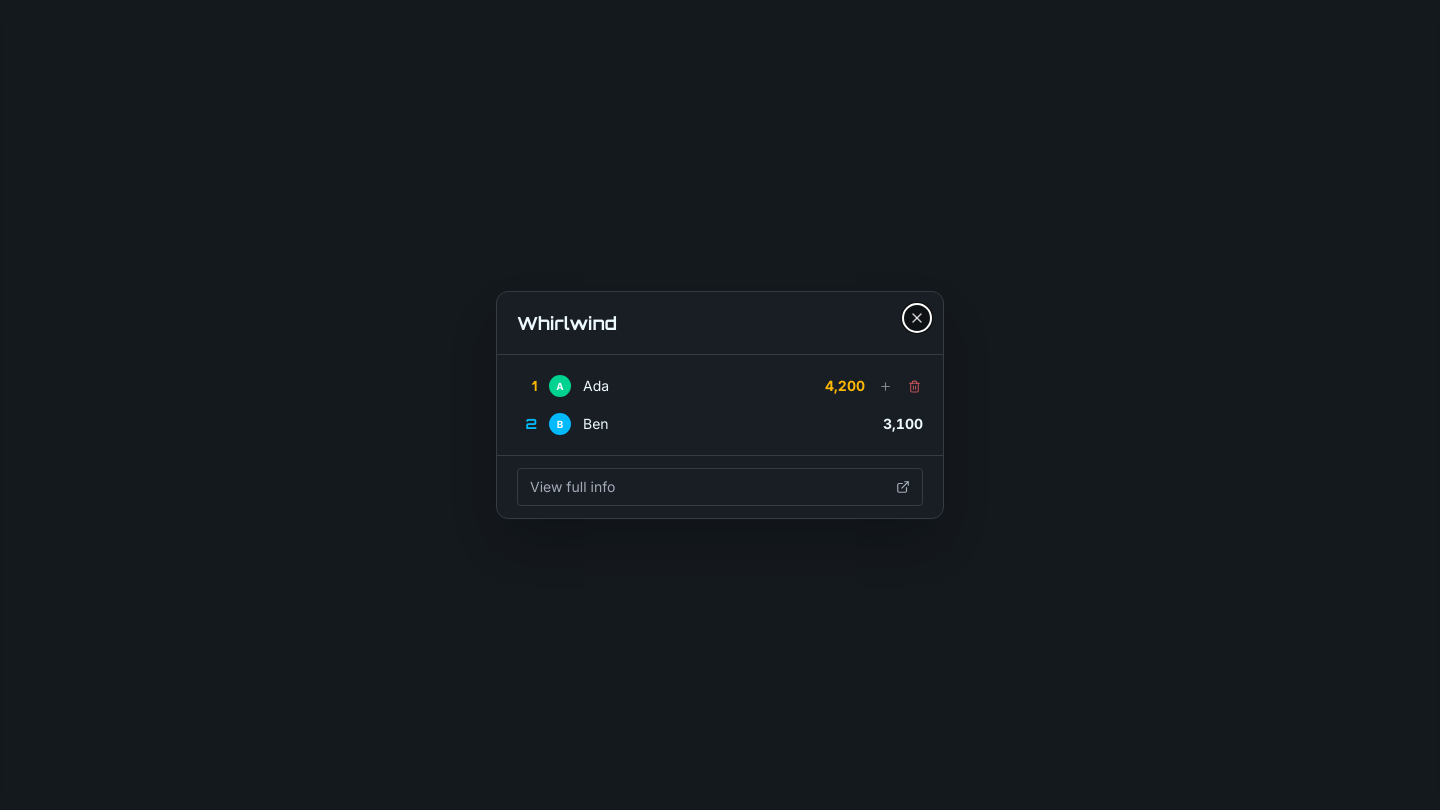
Test: GameQuickView — nested per-player history › expands a multi-score row and gives each history row its own delete
This screenshot has width=1440, height=810.
Click the button named "Show score history": {"x": 886, "y": 386} [875,376,896,397]
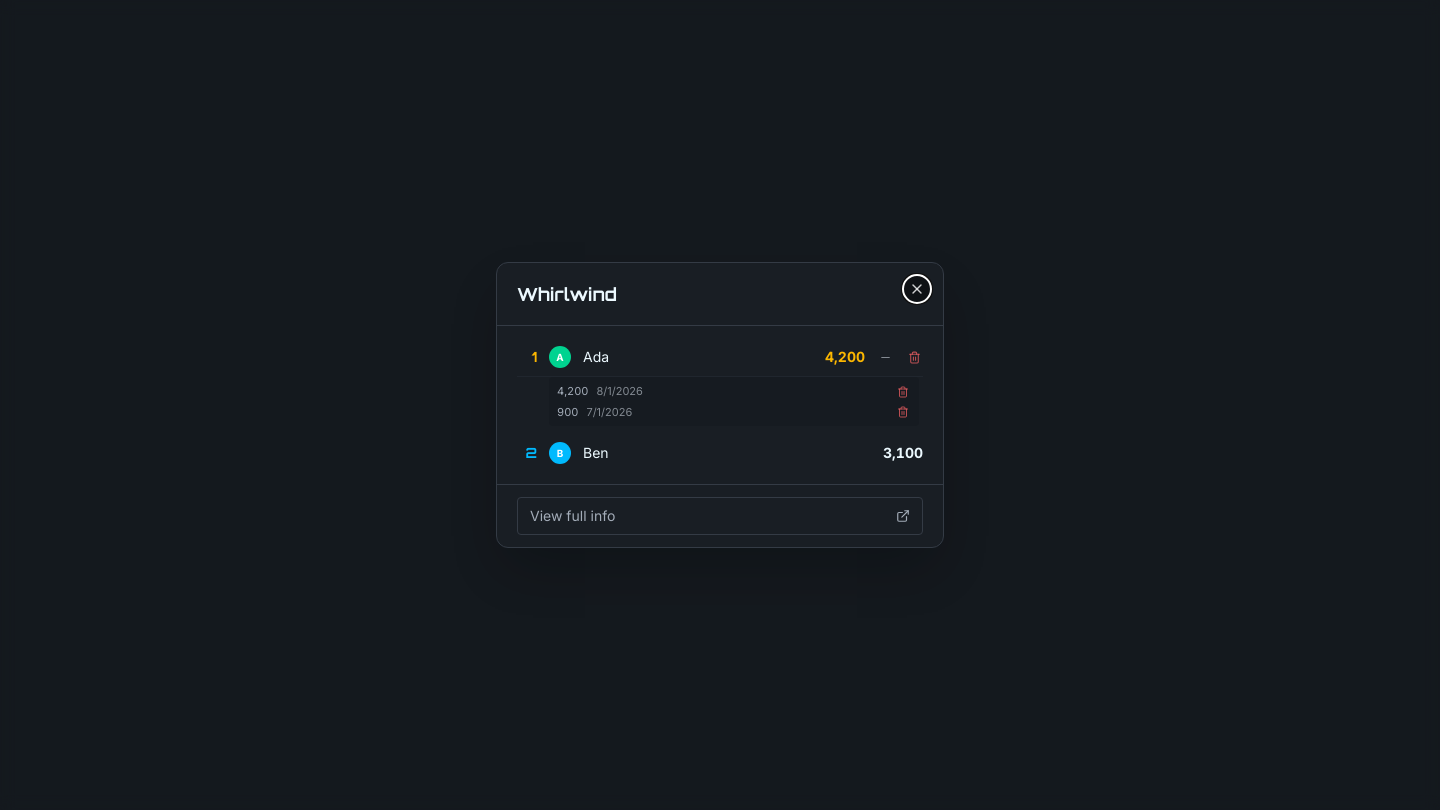
Result: the text "900" is shown at [557,404,578,420]
Result: the button named "Delete this score (900)" is shown at [893,402,913,422]
